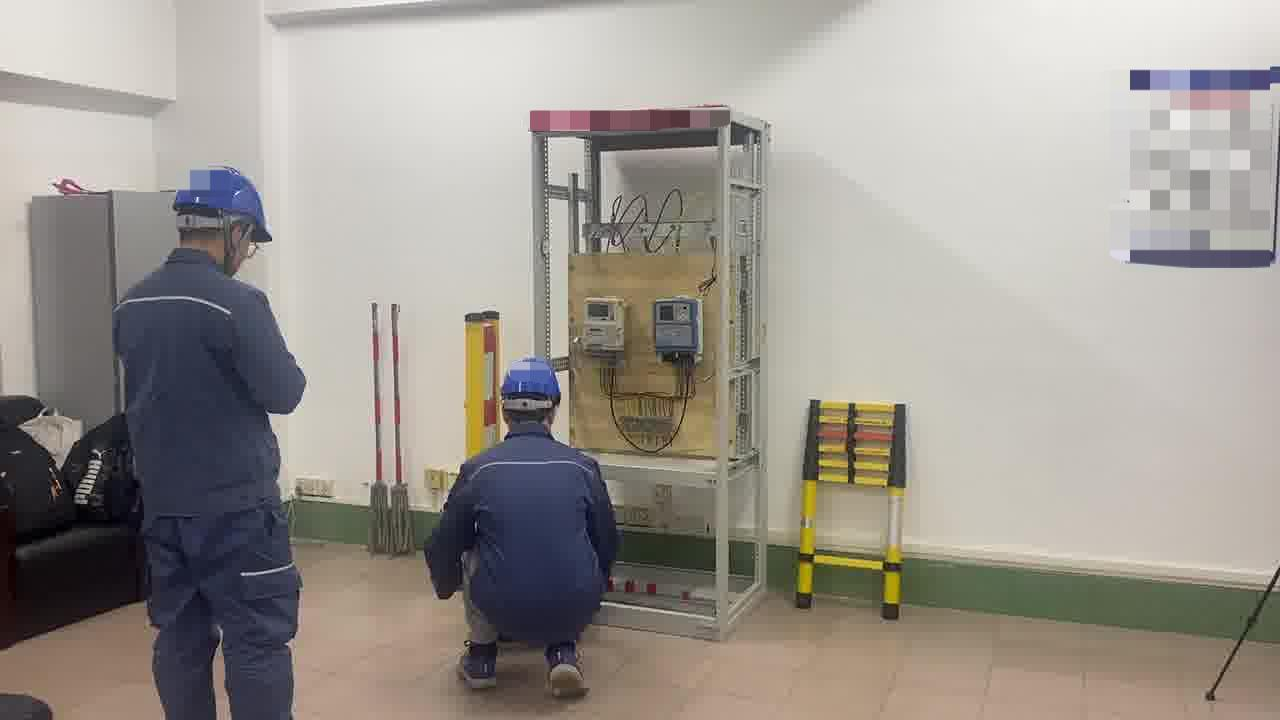halt: (172, 166, 275, 269), (502, 358, 566, 426)
inear: (222, 219, 255, 270)
